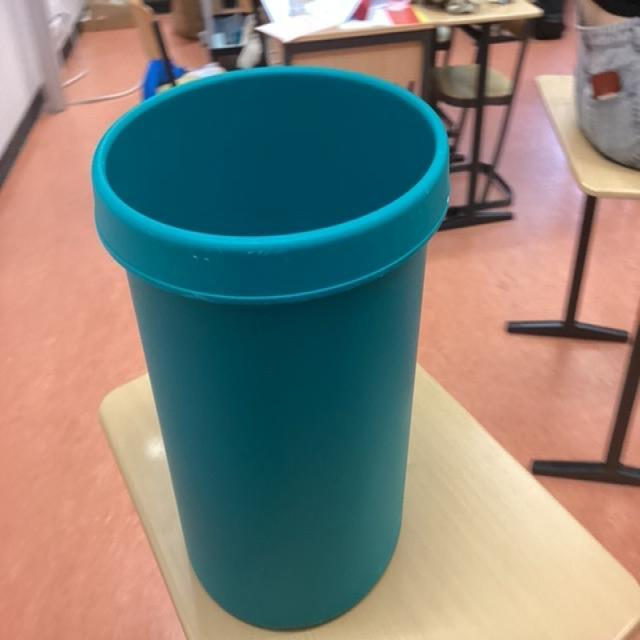garbage container: (88, 51, 472, 632)
